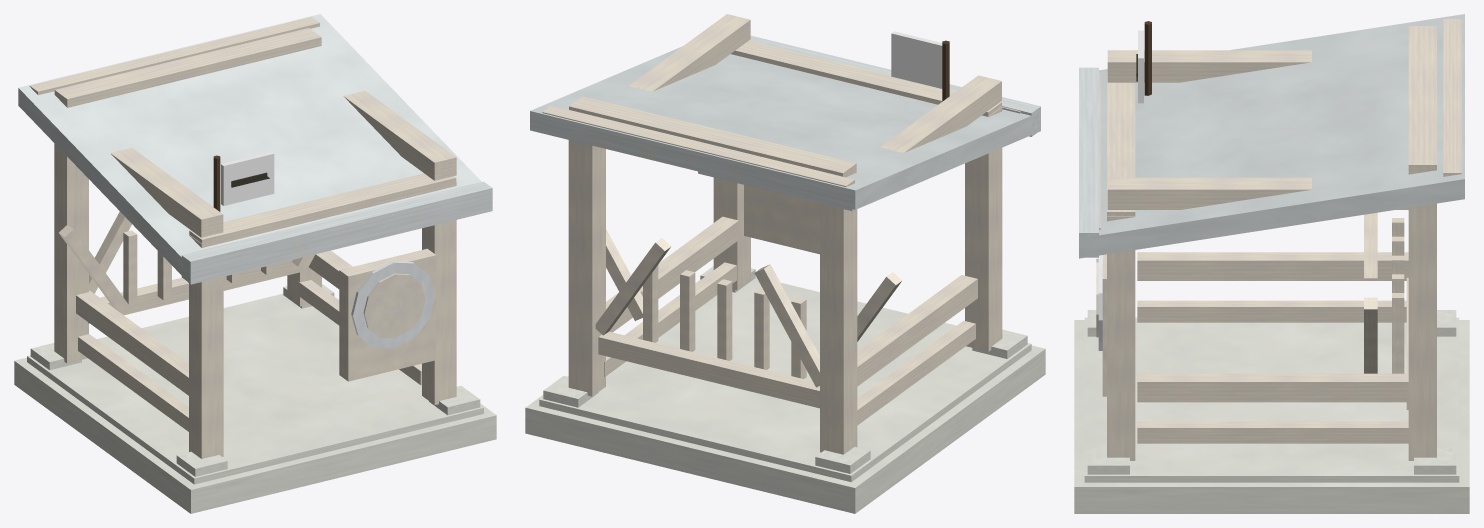
Rendered from archery-range-construction-v1.glb.
The picture shows the model from 3 angles, left to right: view 1: azimuth 30°, elevation 25°; view 2: azimuth 150°, elevation 25°; view 3: azimuth 270°, elevation 25°; orthographic projection. The views are drawn at different scales.
Visible parts, largest first — view 1: archery-range.complete.canopy, archery-range.foundation, archery-range.construction.frame, archery-range.construction.rails, archery-range.complete.target, archery-range.construction.roof-frame, archery-range.standard.azure, archery-range.standard.ember; view 2: archery-range.construction.frame, archery-range.foundation, archery-range.complete.canopy, archery-range.construction.rails, archery-range.construction.roof-frame, archery-range.complete.target, archery-range.standard.azure, archery-range.standard.ember; view 3: archery-range.foundation, archery-range.complete.canopy, archery-range.construction.frame, archery-range.construction.rails, archery-range.construction.roof-frame, archery-range.complete.target, archery-range.standard.azure.
Part boxes in pixels (bbox=[...]): archery-range.complete.canopy: bbox=[18, 14, 492, 284]; archery-range.foundation: bbox=[14, 284, 496, 513]; archery-range.construction.frame: bbox=[54, 28, 456, 458]; archery-range.construction.rails: bbox=[76, 230, 421, 431]; archery-range.complete.target: bbox=[339, 248, 436, 381]; archery-range.construction.roof-frame: bbox=[29, 17, 472, 281]; archery-range.standard.azure: bbox=[213, 151, 274, 211]; archery-range.standard.ember: bbox=[223, 154, 272, 205]; archery-range.construction.frame: bbox=[568, 14, 1002, 454]; archery-range.foundation: bbox=[525, 266, 1045, 513]; archery-range.complete.canopy: bbox=[530, 35, 1040, 209]; archery-range.construction.rails: bbox=[598, 216, 977, 425]; archery-range.construction.roof-frame: bbox=[542, 105, 1020, 211]; archery-range.complete.target: bbox=[744, 185, 819, 254]; archery-range.standard.azure: bbox=[891, 31, 949, 101]; archery-range.standard.ember: bbox=[892, 34, 942, 88]; archery-range.foundation: bbox=[1074, 310, 1469, 513]; archery-range.complete.canopy: bbox=[1079, 14, 1464, 258]; archery-range.construction.frame: bbox=[1107, 26, 1436, 460]; archery-range.construction.rails: bbox=[1137, 218, 1408, 443]; archery-range.construction.roof-frame: bbox=[1099, 19, 1461, 229]; archery-range.complete.target: bbox=[1096, 254, 1106, 396]; archery-range.standard.azure: bbox=[1136, 21, 1151, 103].
Size of the model in its own units: 3.2 by 3.18 by 3.2.
2 materials, 1 textured.
